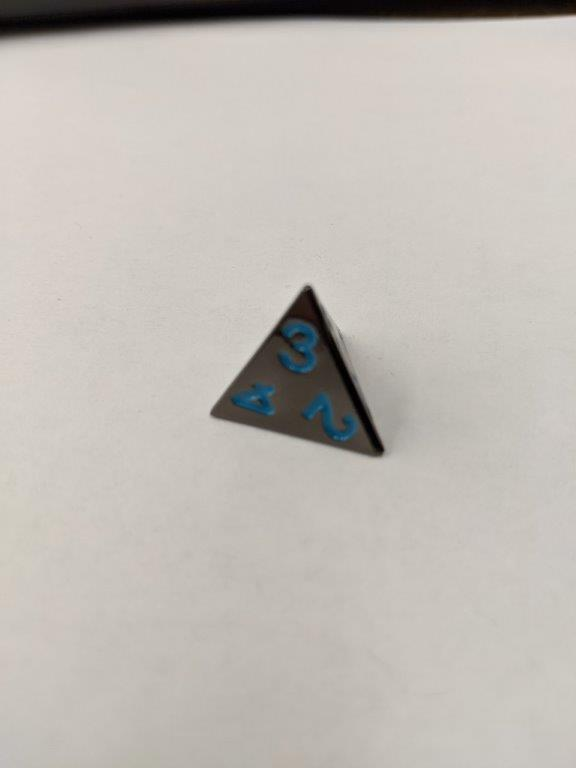d4-3: (204, 283, 390, 464)
